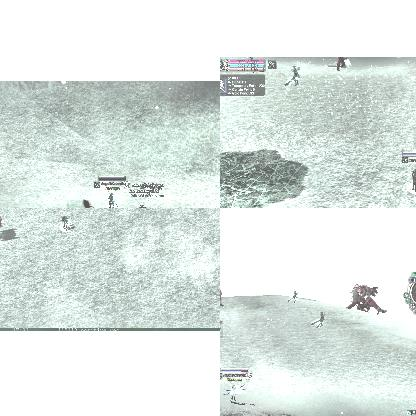caliana: (283, 64, 301, 86), (310, 312, 326, 328), (288, 291, 298, 303), (220, 320, 222, 337)
